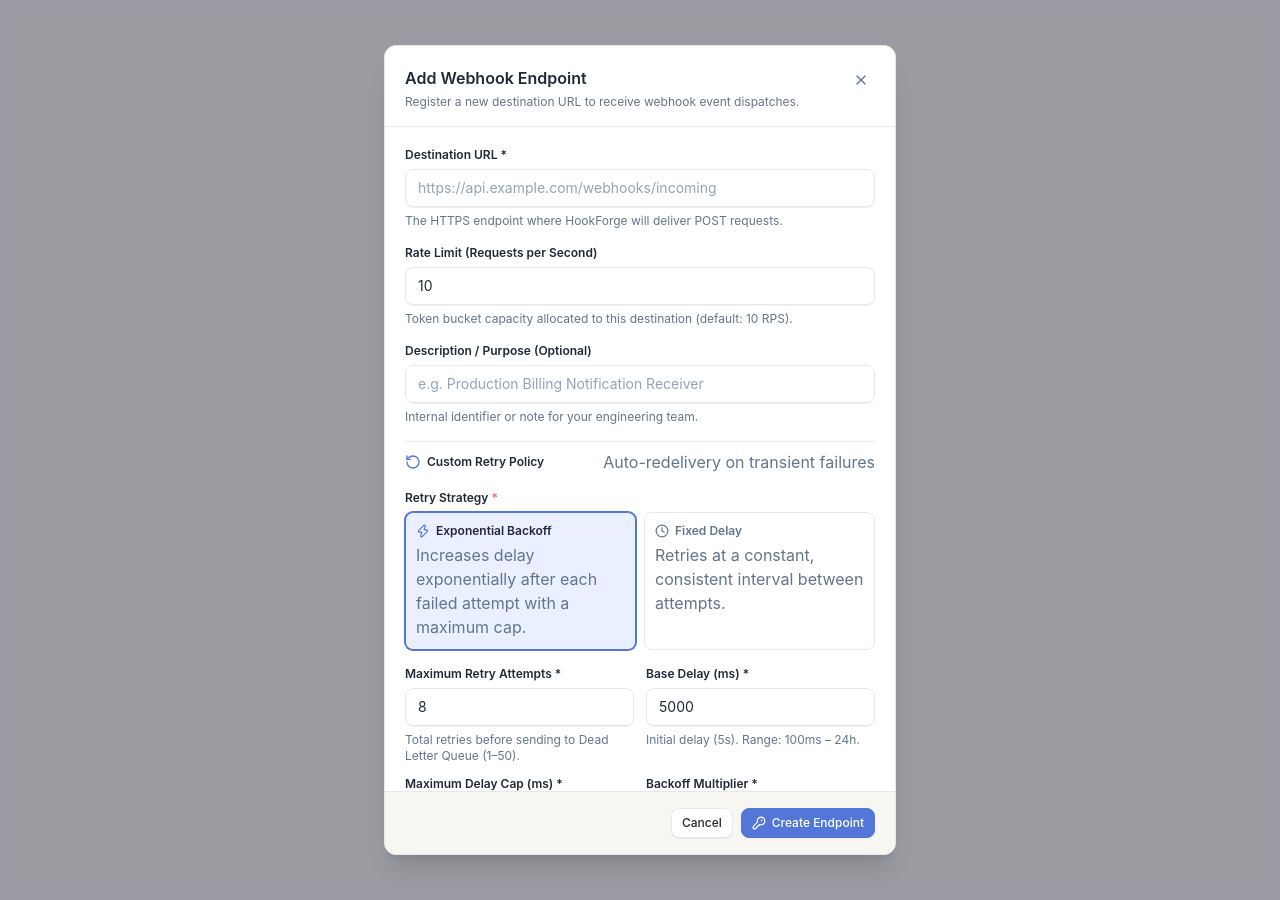
it: Phase 2, Task 3: Custom Retry Policies (Frontend) › 4. CreateEndpointModal with Retry Policy › creates endpoint with custom retry policy
Note: Fill in URL
In the field labelled "Destination URL *": [640, 188] box 405,169 -> 875,207, type "https://webhook.customer.org/events"
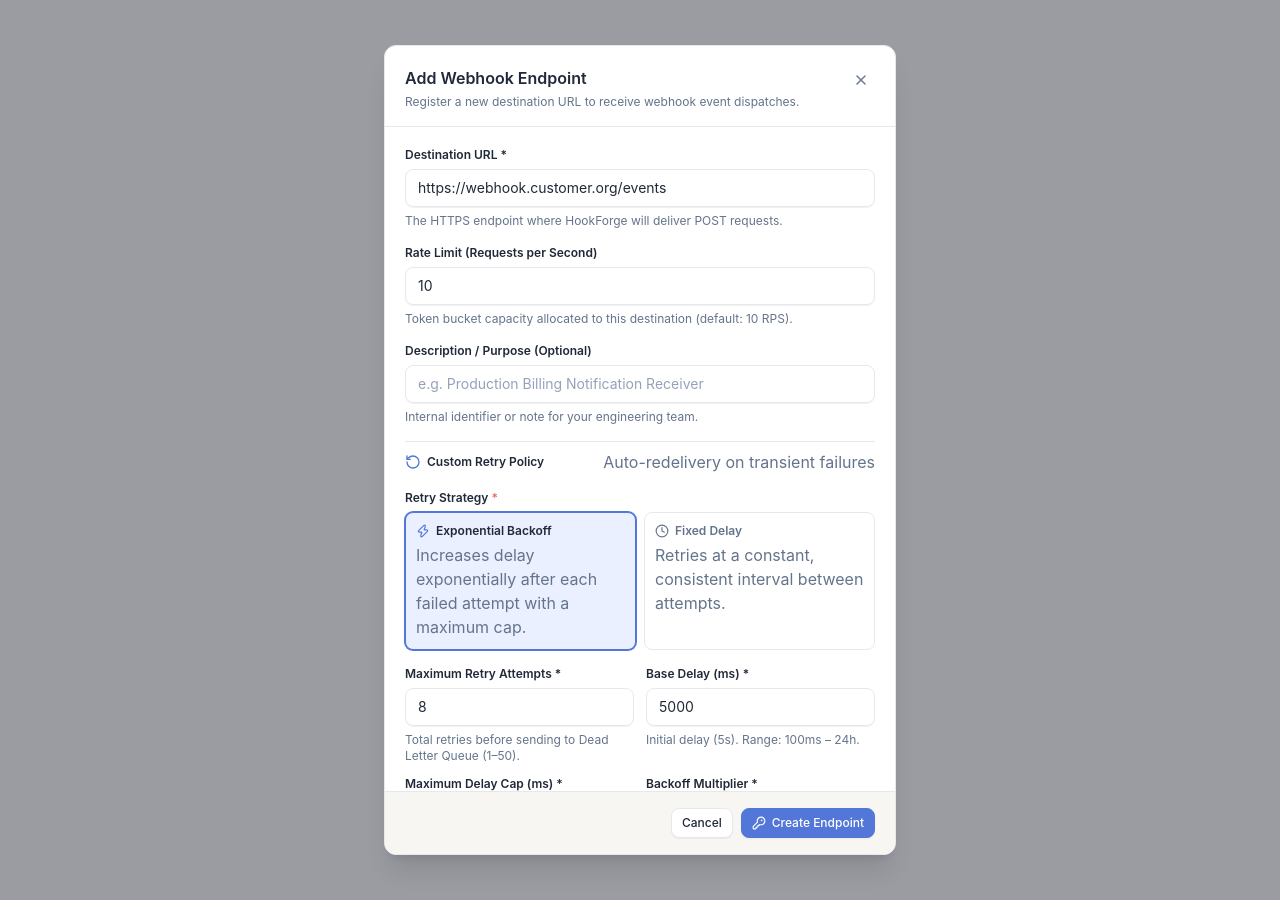
Note: Change retry attempts
Replace the text in the number field labelled "Maximum Retry Attempts *" with "15": [520, 707] box 405,688 -> 634,726
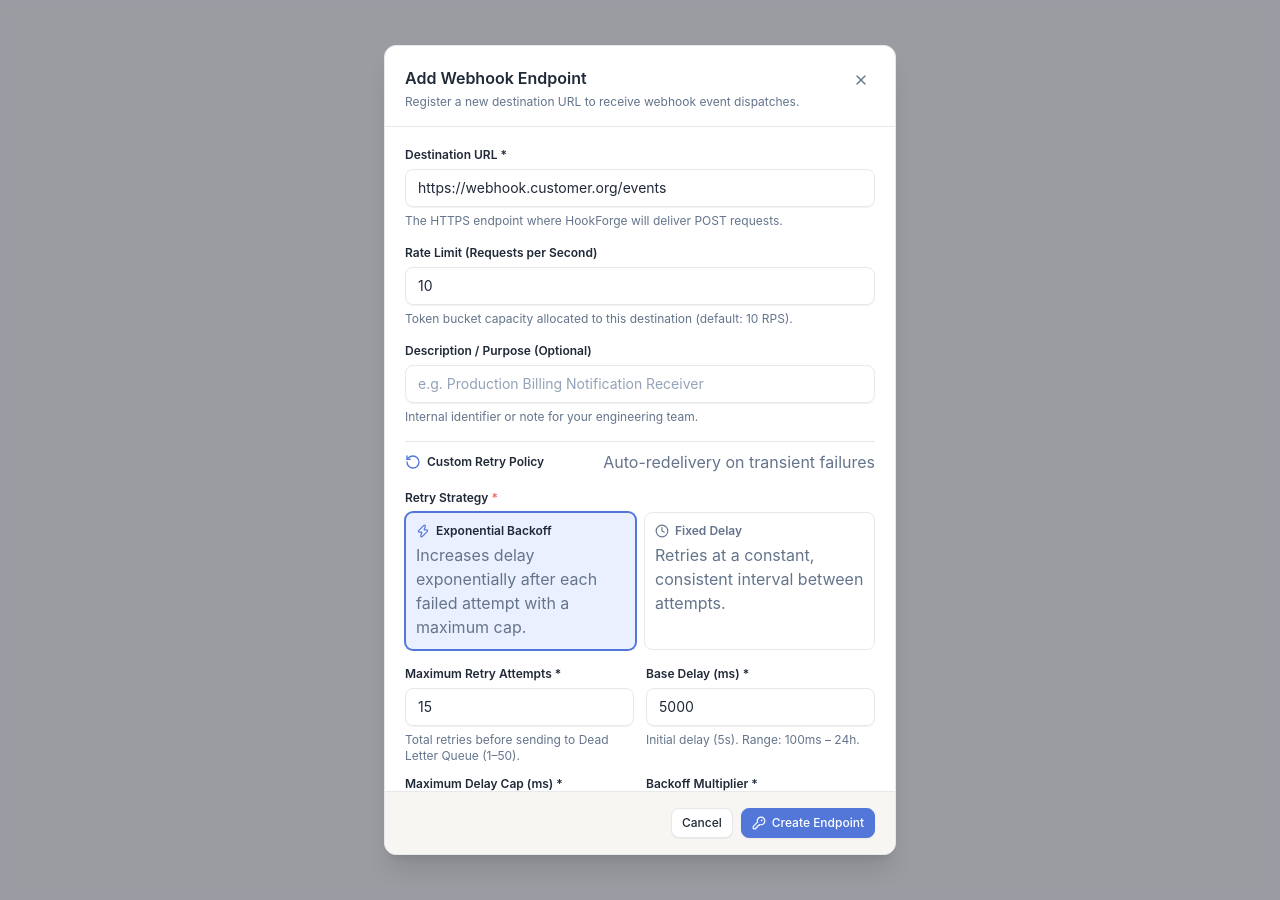
Click the button "Create Endpoint": [808, 823] box 741,808 -> 875,838
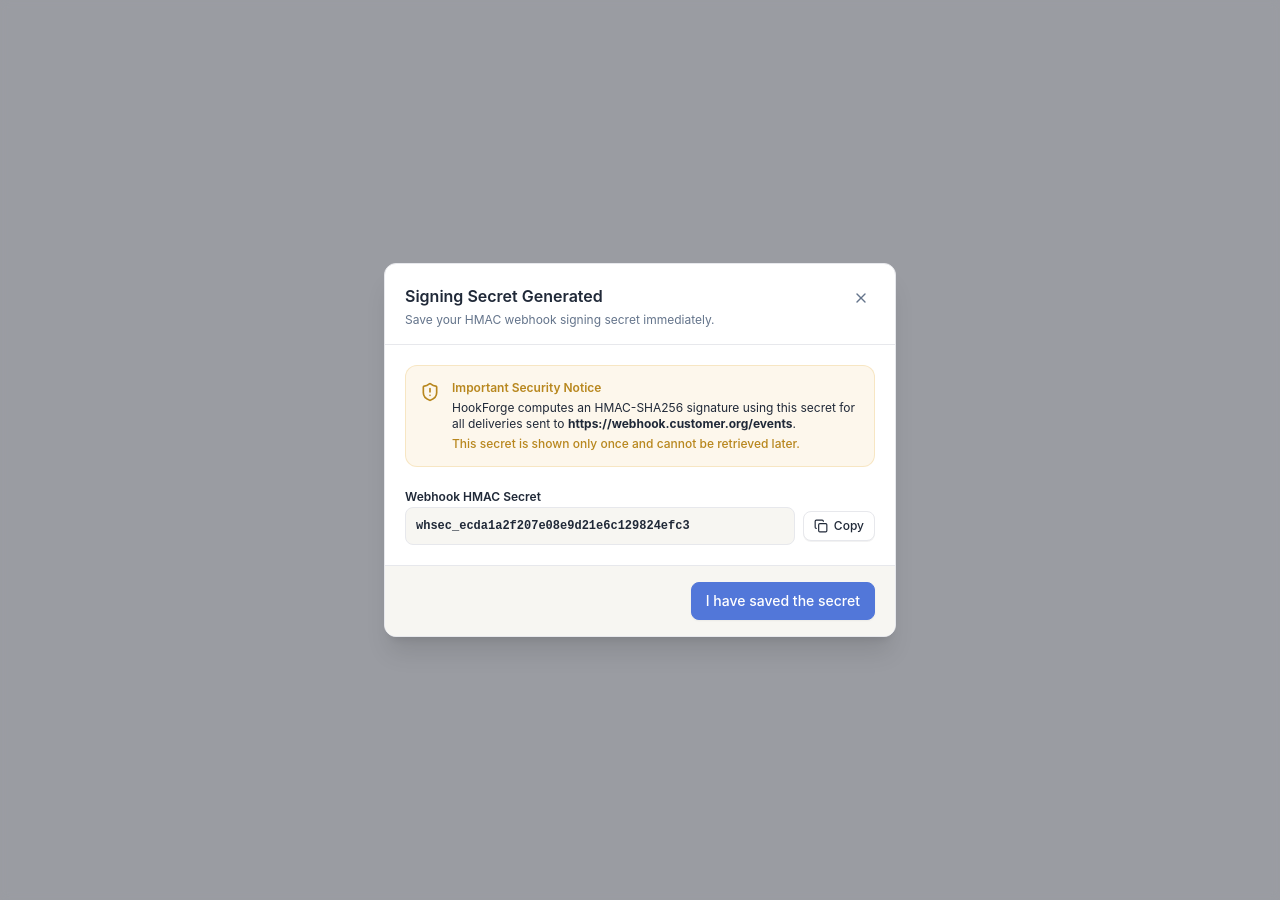
Result: the heading "Signing Secret Generated" is shown at 405,286 -> 603,306
